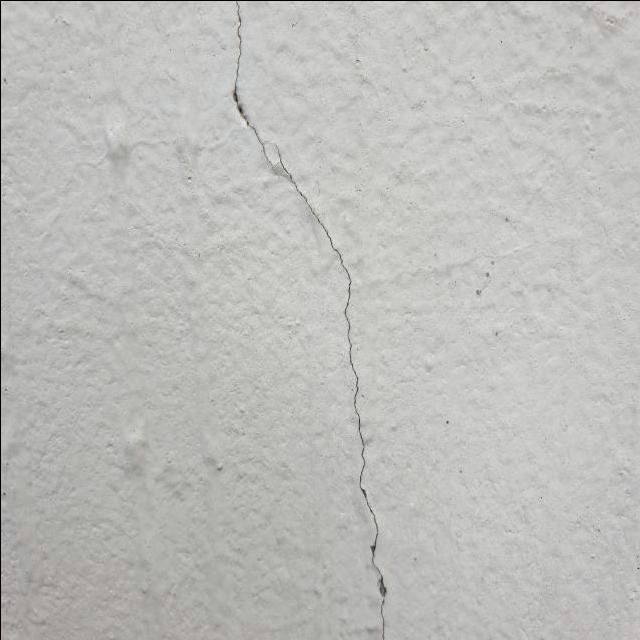SurfaceCrack: (198, 0, 423, 639)
